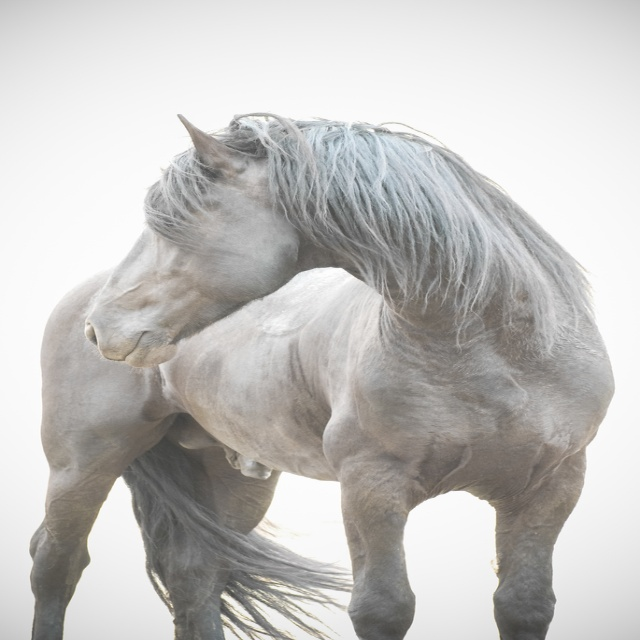Horse: (24, 112, 616, 640)
